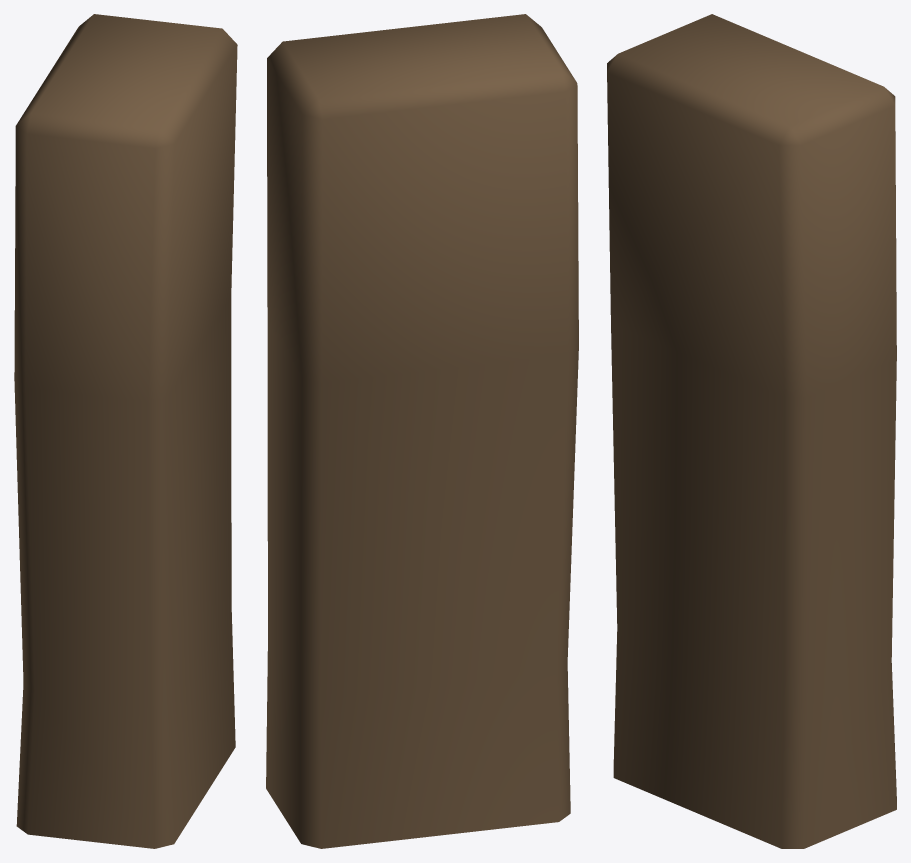
The model's file is rpgpp_av_wall_connector_corner_01b_3m.gltf.
3 views of the same model, side by side, from view 1: azimuth 30°, elevation 25°; view 2: azimuth 150°, elevation 25°; view 3: azimuth 270°, elevation 25° (orthographic). The views are drawn at different scales.
Visible parts, largest first — view 1: rpgpp_av_wall_connector_corner_01b_3m; view 2: rpgpp_av_wall_connector_corner_01b_3m; view 3: rpgpp_av_wall_connector_corner_01b_3m.
Part boxes in pixels (left/top/right/bottom): rpgpp_av_wall_connector_corner_01b_3m: left=14, top=14, right=237, bottom=848; rpgpp_av_wall_connector_corner_01b_3m: left=266, top=14, right=578, bottom=848; rpgpp_av_wall_connector_corner_01b_3m: left=607, top=14, right=896, bottom=848.
Bounding box in the file's own units: 0.011 × 0.03 × 0.011.
Materials: 1 (1 with a texture image).
